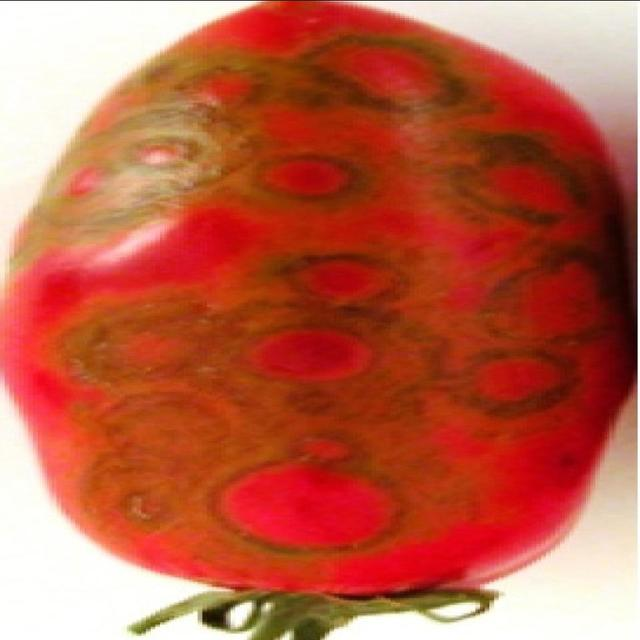Spotted wilt Virus Fruit: (0, 0, 424, 399)
